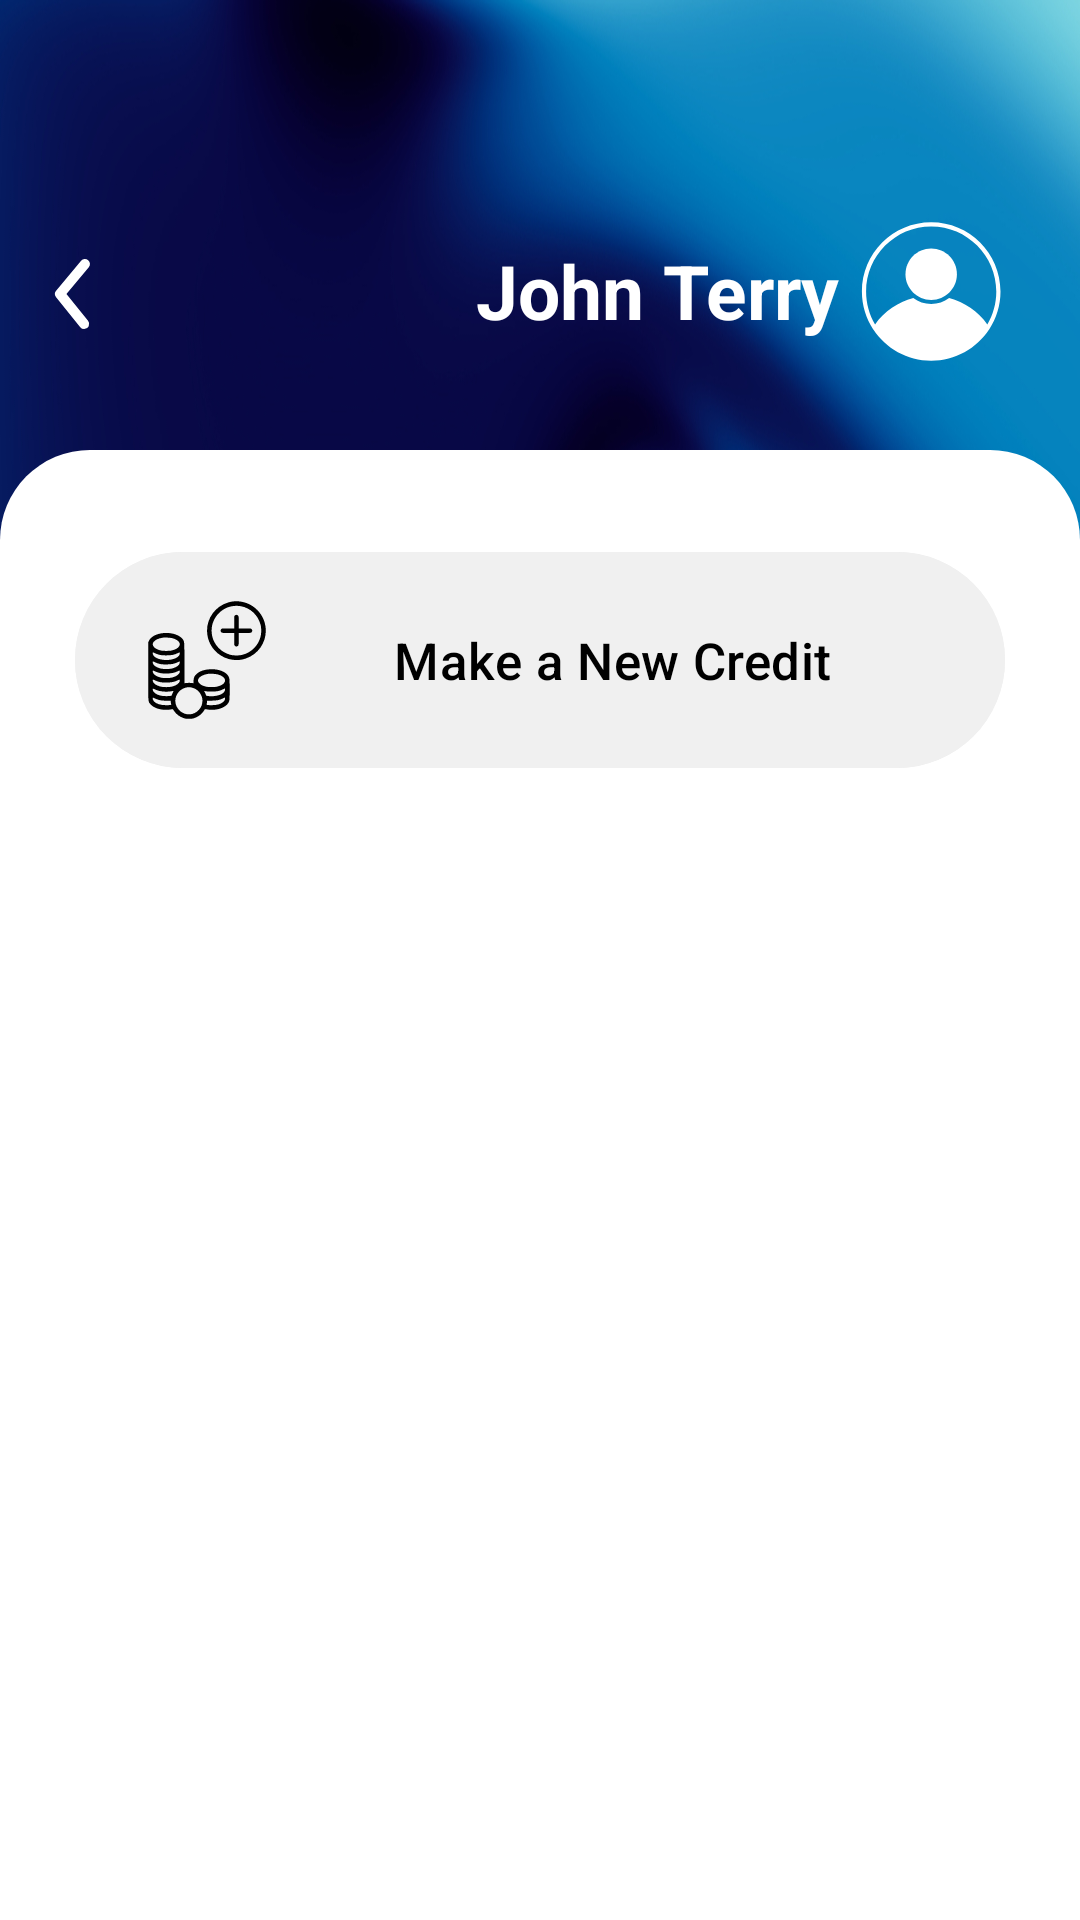

Icons on this 1080px×1920px Android screen, each with the point to tap as point (x, y):
back arrow: point (72, 294)
profile picture round: point (931, 291)
